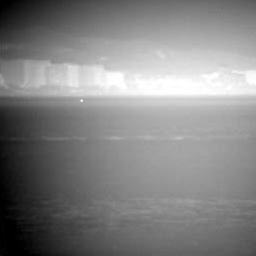Target: (79, 98, 85, 103)
